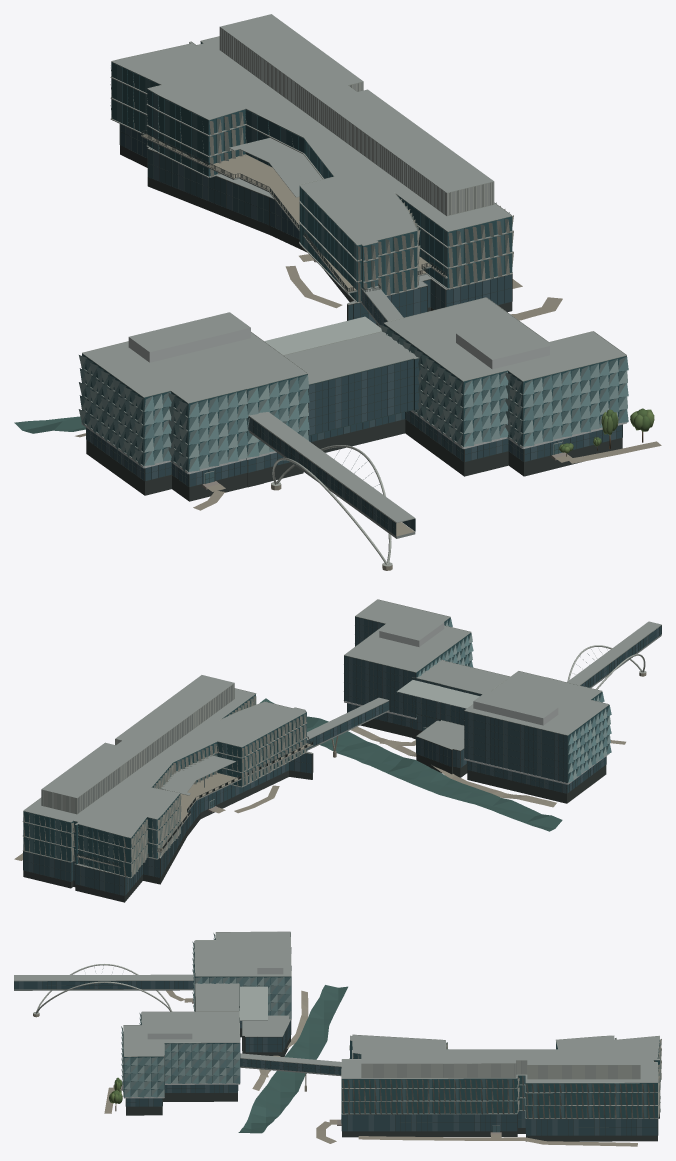
Rendered from site.glb.
3 renders of one model, top to bottom at view 1: azimuth 30°, elevation 25°; view 2: azimuth 150°, elevation 25°; view 3: azimuth 270°, elevation 25°, orthographic. The views are drawn at different scales.
Parts seen in each view (by area): view 1: context-oc-knight-1, context-oc-knight-2, knight-campus-grounds; view 2: context-oc-knight-2, context-oc-knight-1, knight-campus-grounds; view 3: context-oc-knight-2, context-oc-knight-1, knight-campus-grounds.
Boxes of the visible parts, x1,y1,x2,y2 form: context-oc-knight-1: (78,297,628,570); context-oc-knight-2: (110,14,513,327); knight-campus-grounds: (14,254,661,510); context-oc-knight-2: (22,675,389,902); context-oc-knight-1: (343,599,661,803); knight-campus-grounds: (14,698,625,860); context-oc-knight-2: (240,1034,661,1141); context-oc-knight-1: (14,931,291,1115); knight-campus-grounds: (104,985,637,1146).
Bounding box in the file's own units: 131 × 27.77 × 223.
